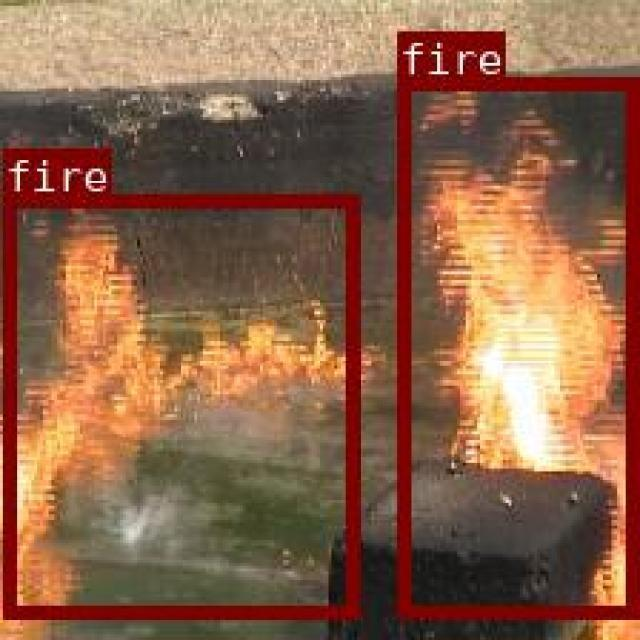fire: (1, 193, 357, 617), (397, 75, 635, 614)
